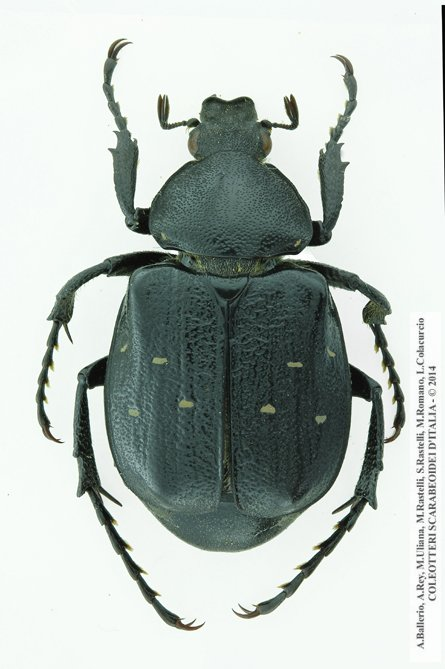Gnorimus_variabilis: (20, 26, 408, 643)
